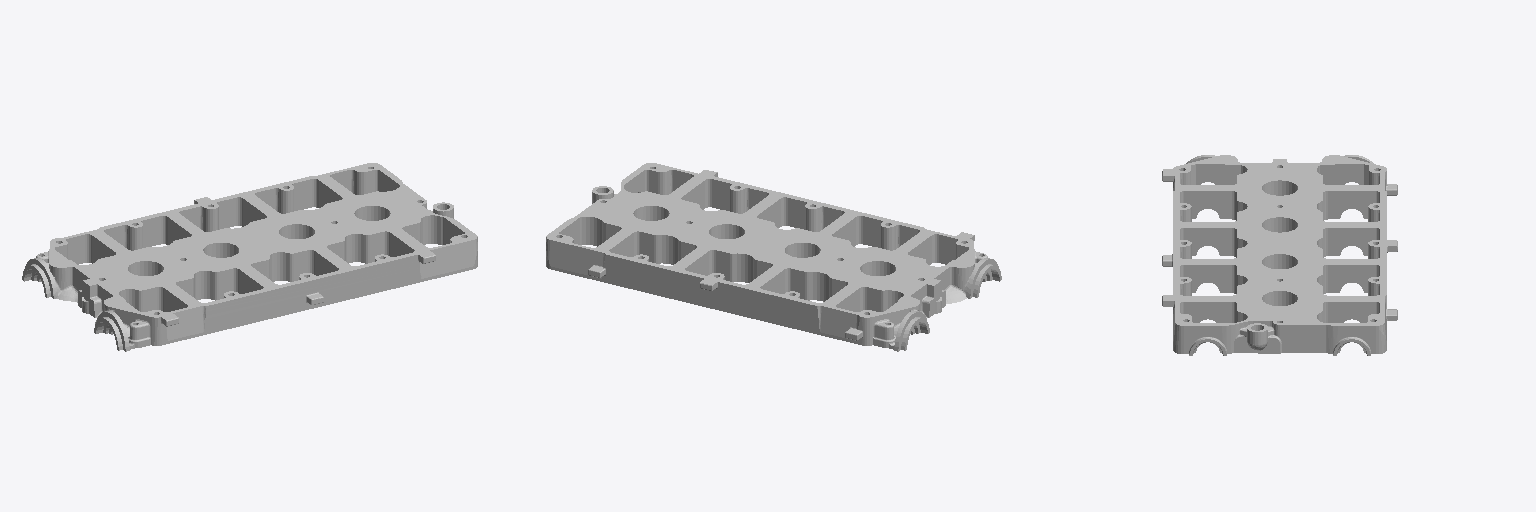
Rendered from Корпус подшипников распределительных валов.obj.
3 views of the same model, side by side, from view 1: azimuth 30°, elevation 25°; view 2: azimuth 150°, elevation 25°; view 3: azimuth 270°, elevation 25° (orthographic).
Parts seen in each view (by area): view 1: Корпус_подшипников_распределител; view 2: Корпус_подшипников_распределител; view 3: Корпус_подшипников_распределител.
Boxes of the visible parts, x1=… form: Корпус_подшипников_распределител: x1=22, y1=163, x2=477, y2=351; Корпус_подшипников_распределител: x1=546, y1=163, x2=1001, y2=351; Корпус_подшипников_распределител: x1=1162, y1=155, x2=1397, y2=355.
Bounding box in the file's own units: 437 × 32.01 × 240.